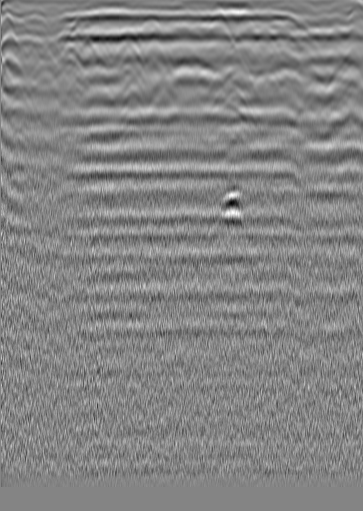가스: (214, 187, 252, 220)
상수: (318, 26, 338, 46)
오수: (38, 36, 58, 56)
우수: (170, 43, 190, 63)
